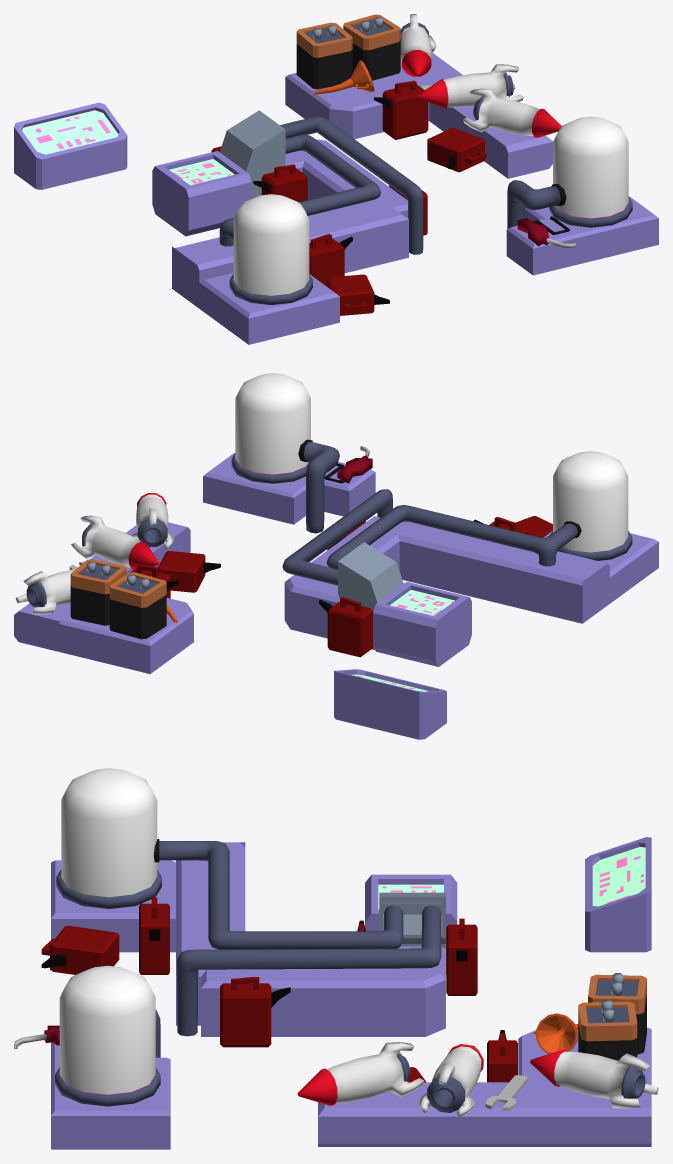
Rendered from Fuel tile Fixed1 .fbx.
The picture shows the model from 3 angles, top to bottom: view 1: azimuth 30°, elevation 25°; view 2: azimuth 150°, elevation 25°; view 3: azimuth 270°, elevation 25°; orthographic projection. The views are drawn at different scales.
Visible parts, largest first — view 1: Cube.009; view 2: Cube.009; view 3: Cube.009.
Boxes of the visible parts, left/top/right/bottom form: Cube.009: left=14, top=14, right=658, bottom=344; Cube.009: left=14, top=373, right=658, bottom=739; Cube.009: left=14, top=768, right=658, bottom=1149.
Size of the model in its own units: 938 by 263 by 966.
